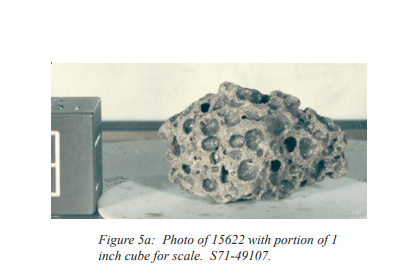Basalt: (163, 86, 349, 200)
